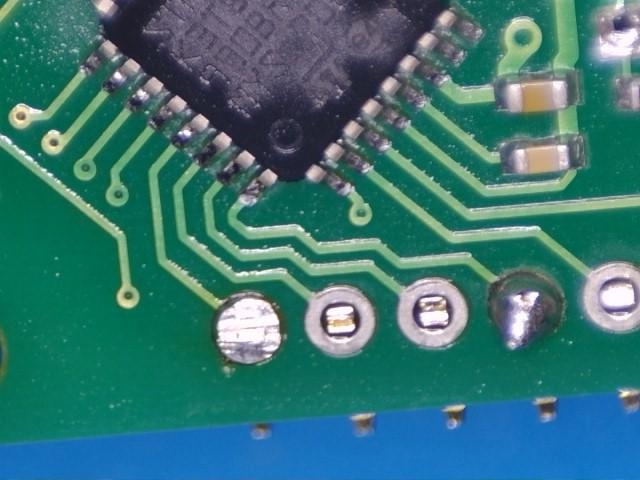pcb_defect: (490, 274, 560, 350)
